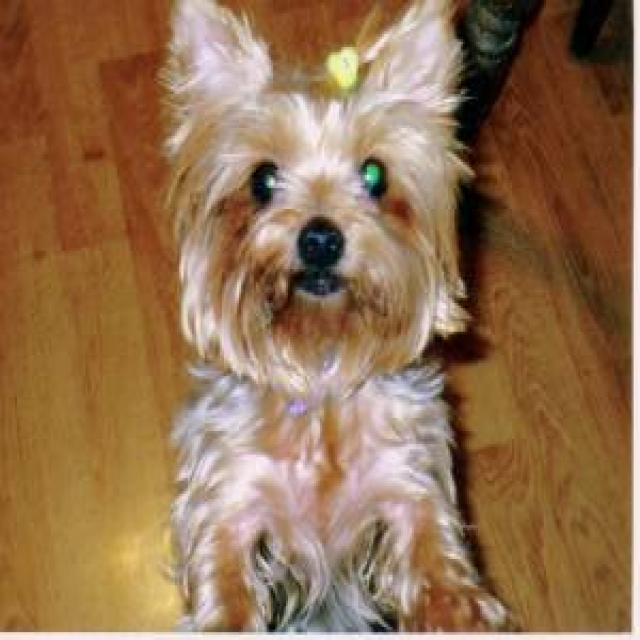dog-yorkshire_terrier: (166, 3, 523, 635)
